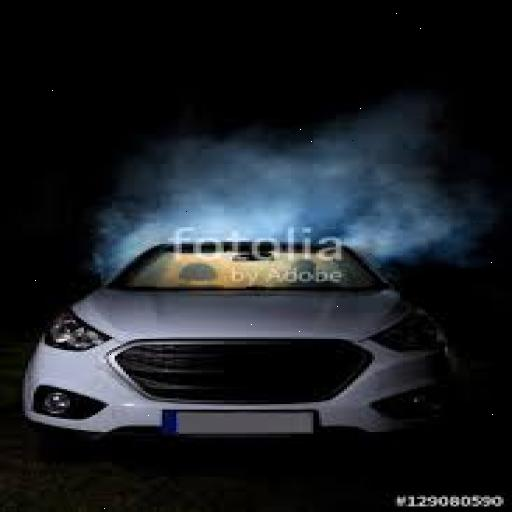smoke: (118, 142, 456, 274)
